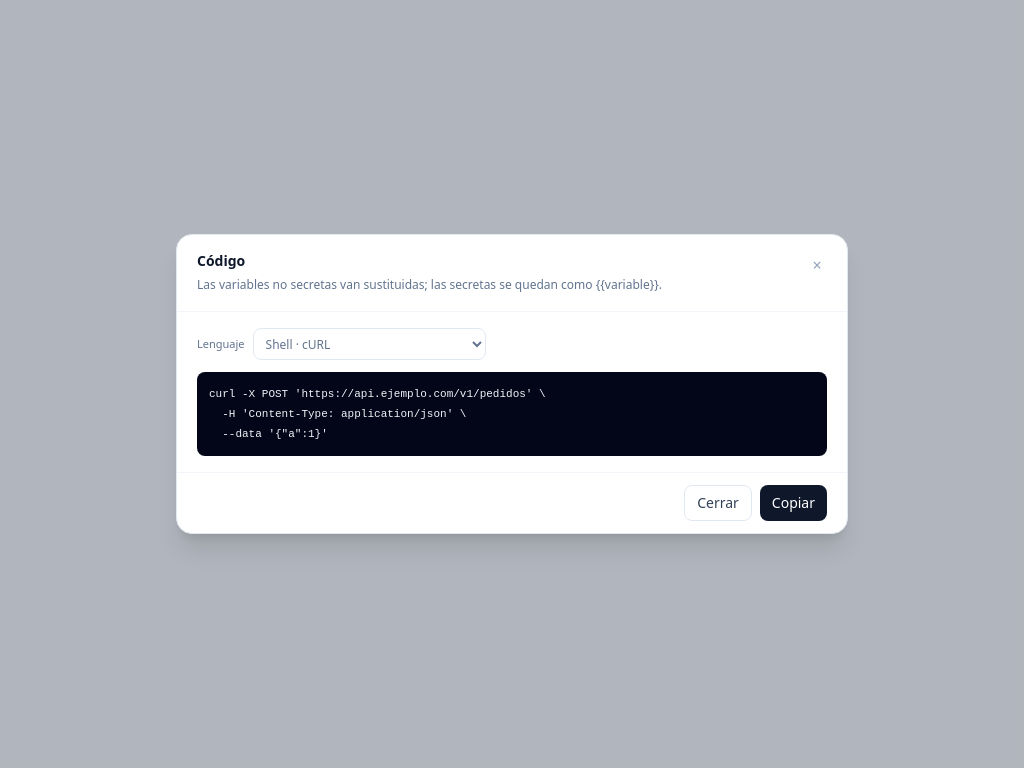
Scenario: sin almacenamiento › una ventana privada que no deja leer ni escribir usa cURL y deja cambiar igual
This screenshot has width=1024, height=768.
Select "Go · net/http" in the dropdown labelled "Lenguaje": (369, 344) x1=252 y1=328 x2=486 y2=360
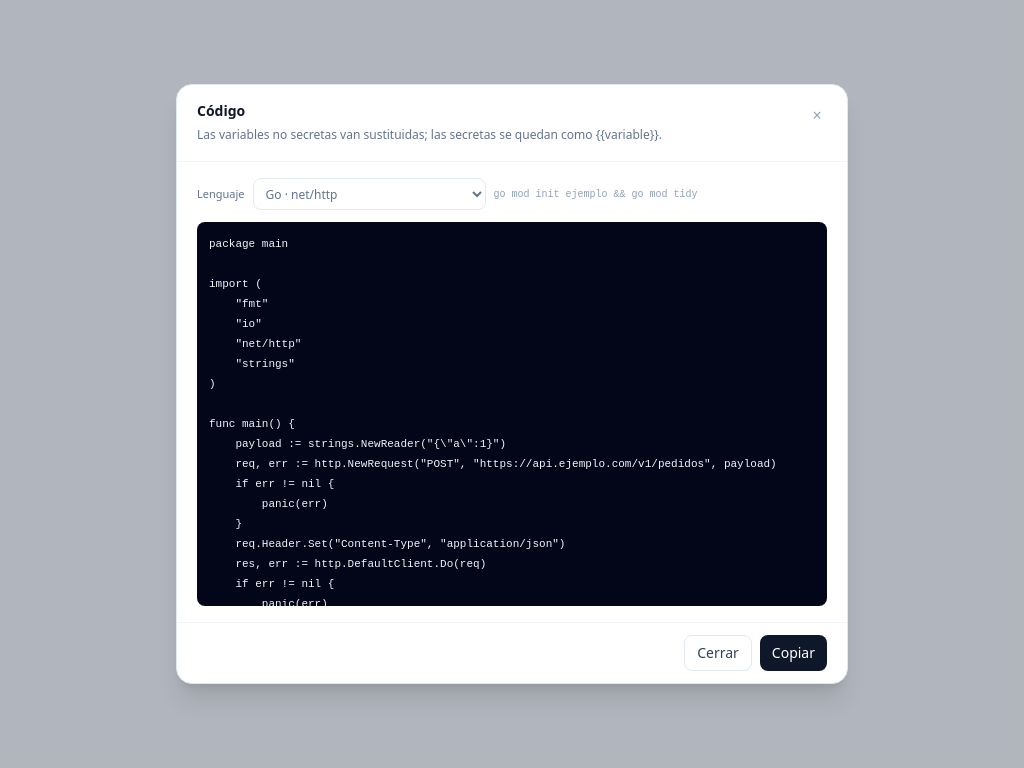
Now the text "package main" is shown, box x1=209 y1=238 x2=777 y2=622
